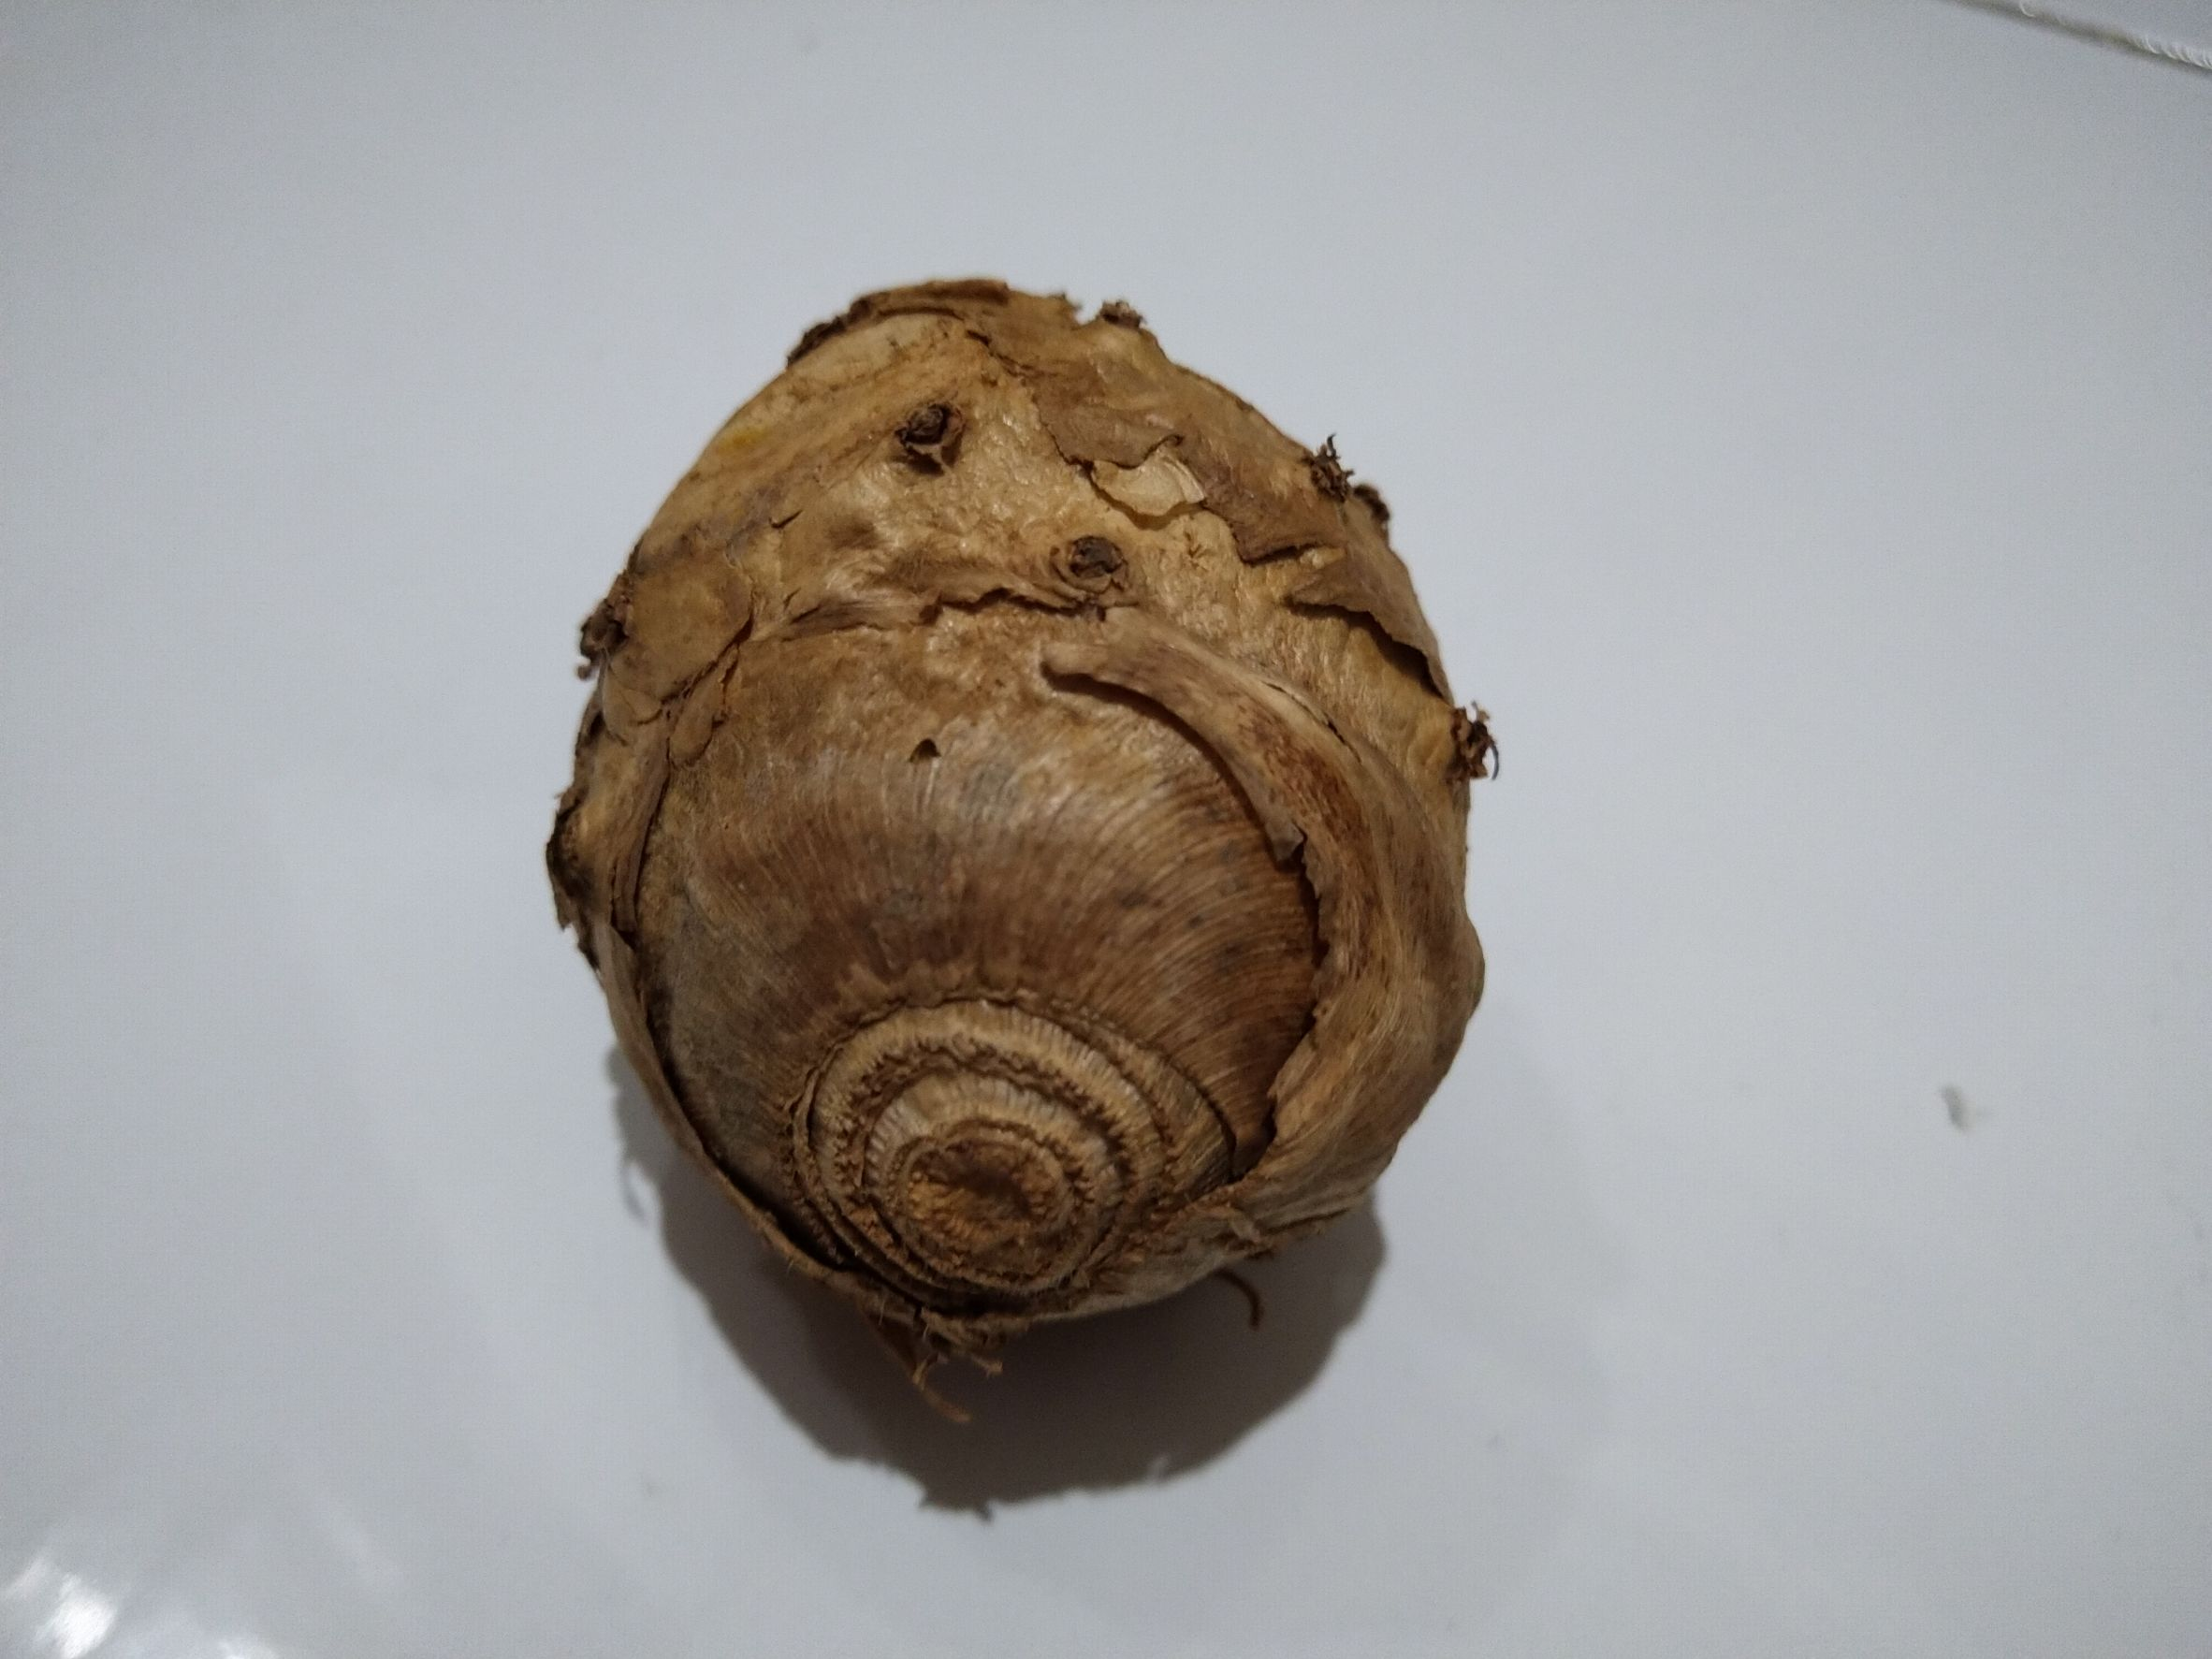Temulawak: (559, 272, 1496, 1392)
